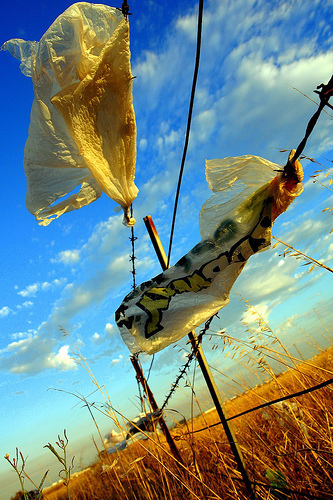litter: (113, 153, 306, 362), (1, 4, 137, 226)
